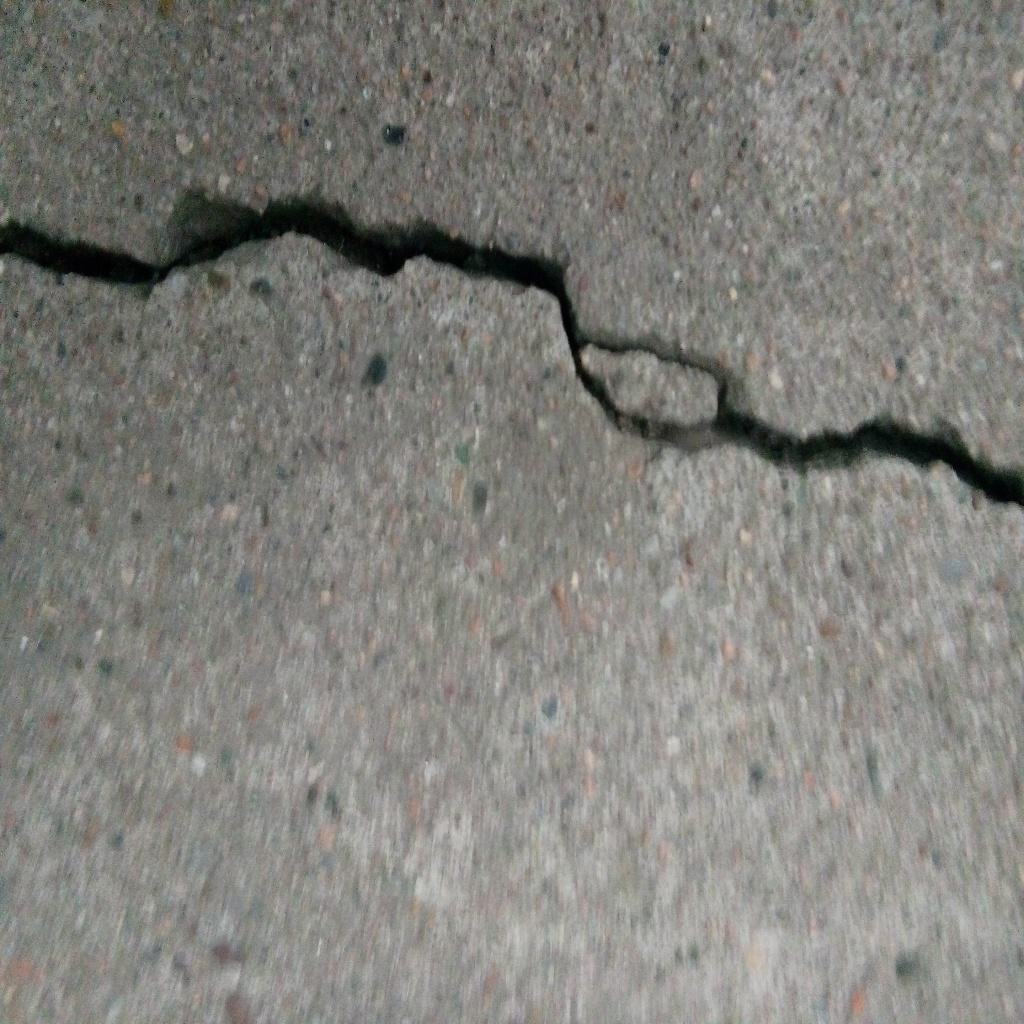Crack: (1, 185, 1024, 512)
